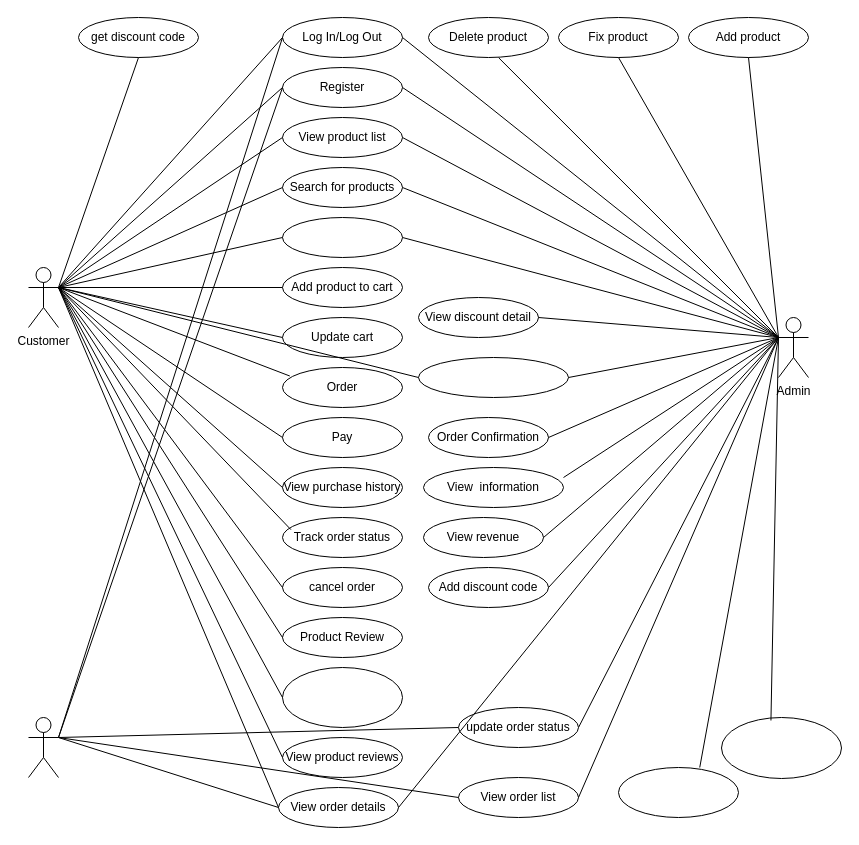
Some shapes in this 859 by 845 pixel diagram are drawn without their labels. Here are the shapes that lost their labels. From the top down, the centre of each, then its label:
the point at 342,237: View product detail
the point at 493,377: View discount codes list
the point at 342,697: Personal information management
the point at 43,747: Shiper
the point at 781,747: Store information management
the point at 678,792: Update discount code
